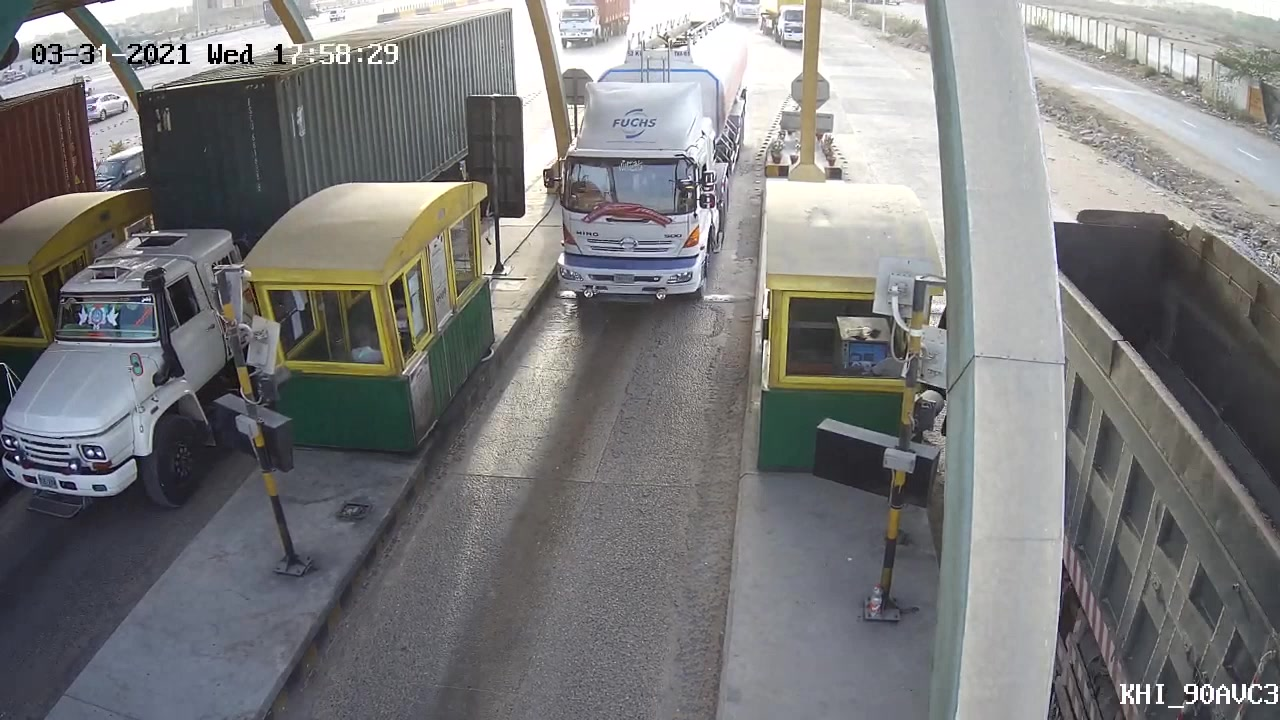F6: (540, 14, 763, 308)
